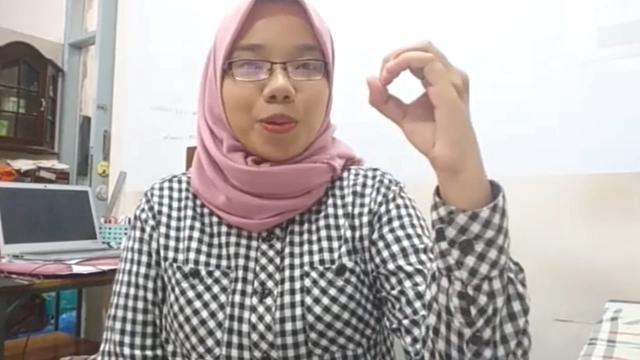O: (361, 36, 473, 166)
